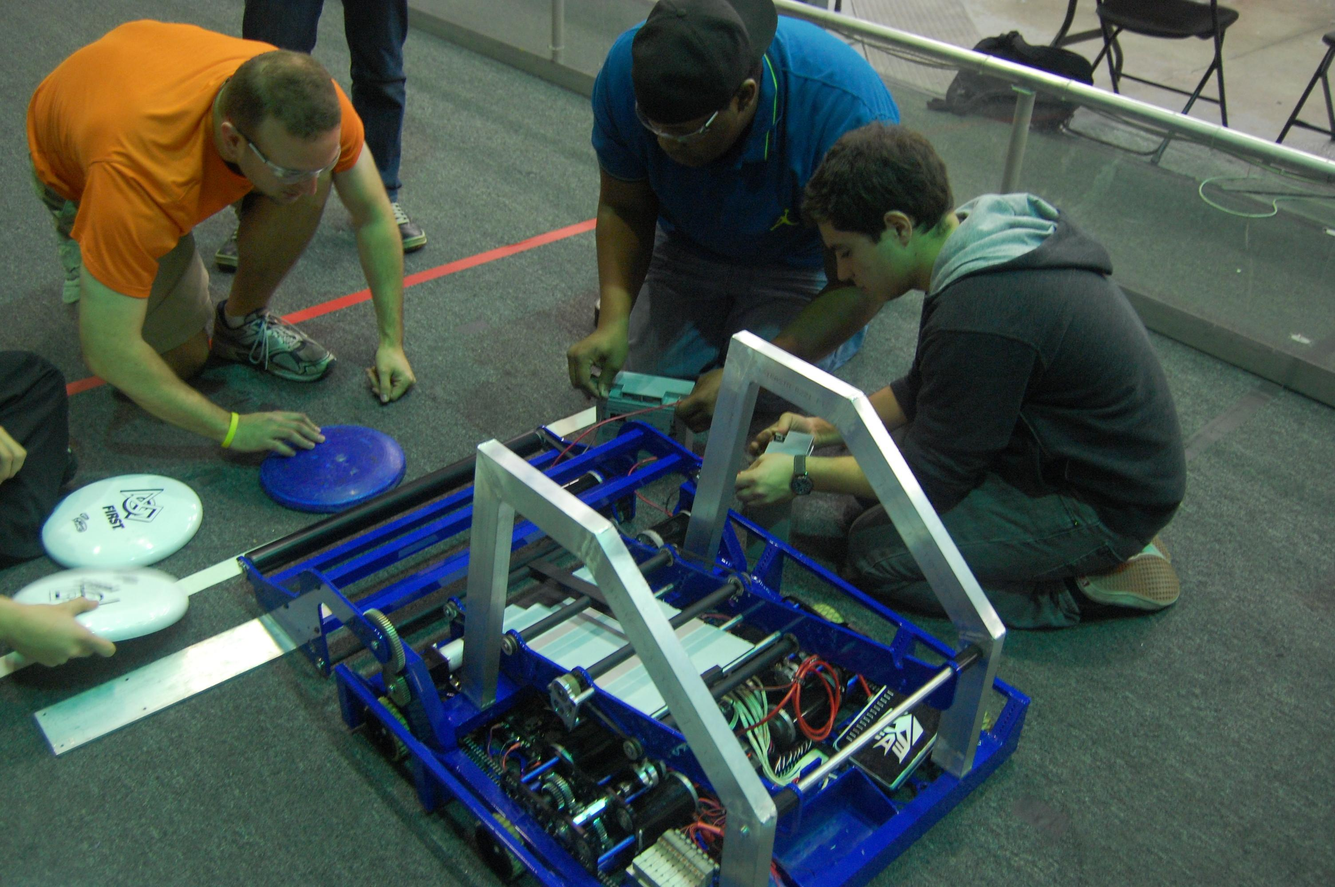robot: (231, 325, 1037, 887)
